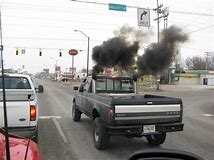smoke: (133, 26, 190, 78), (90, 34, 136, 78)
